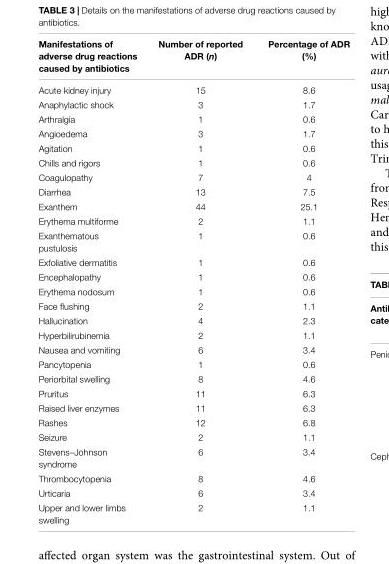table: (37, 37, 349, 524)
table column: (37, 37, 146, 524), (146, 37, 254, 524), (254, 37, 349, 524)
table column header: (37, 37, 349, 78)
table row: (37, 37, 349, 78), (37, 227, 349, 254), (37, 443, 349, 470), (37, 499, 349, 524), (37, 78, 349, 96), (37, 96, 349, 111), (37, 125, 349, 140), (37, 154, 349, 169), (37, 183, 349, 198), (37, 198, 349, 213), (37, 268, 349, 283), (37, 283, 349, 298), (37, 312, 349, 327), (37, 341, 349, 356), (37, 370, 349, 385), (37, 385, 349, 400), (37, 414, 349, 429), (37, 470, 349, 485), (37, 111, 349, 125), (37, 140, 349, 154), (37, 169, 349, 183), (37, 213, 349, 227), (37, 254, 349, 268), (37, 298, 349, 312), (37, 327, 349, 341), (37, 356, 349, 370), (37, 400, 349, 414), (37, 429, 349, 443), (37, 485, 349, 499)
